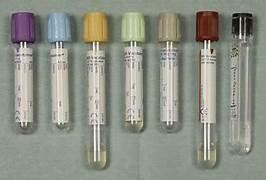Iv_Bottle: (84, 12, 107, 168), (196, 11, 218, 167), (229, 13, 252, 153), (11, 12, 36, 133), (121, 12, 144, 131), (158, 12, 180, 132), (48, 13, 70, 131)
